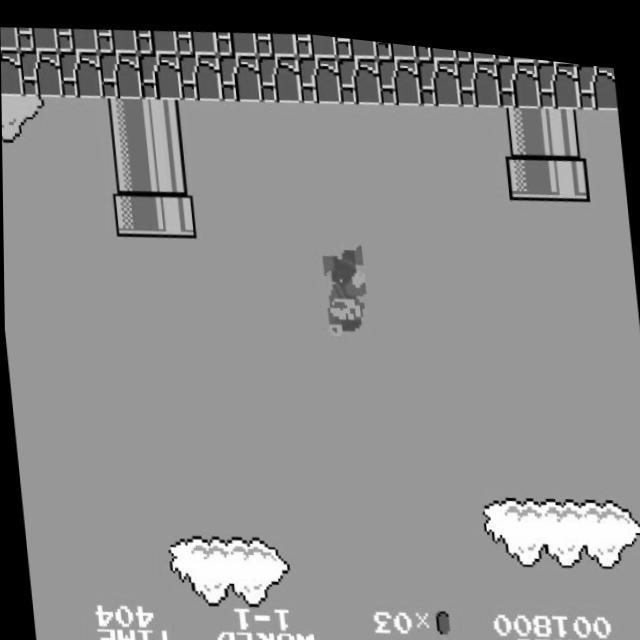0- big_mario: (320, 233, 373, 334)
14- pipe: (146, 138, 192, 191), (141, 92, 187, 145), (106, 138, 152, 191), (102, 92, 148, 145), (540, 92, 585, 145), (500, 92, 545, 145)
15- pipe_head: (544, 138, 590, 191), (504, 138, 550, 191), (150, 184, 196, 236), (111, 184, 156, 236)
17- undestructible_block: (495, 46, 541, 99), (336, 46, 382, 99), (296, 46, 342, 99), (256, 46, 302, 99), (97, 46, 143, 99), (57, 46, 103, 99), (535, 47, 581, 99), (456, 46, 501, 99), (416, 46, 461, 99), (376, 46, 421, 99), (217, 46, 262, 99), (177, 46, 222, 99), (137, 46, 182, 99), (18, 46, 63, 99), (576, 50, 618, 99), (55, 23, 99, 53), (15, 23, 59, 53), (254, 23, 297, 53), (215, 23, 258, 53), (175, 23, 218, 53), (135, 23, 178, 53), (95, 23, 138, 53), (1, 48, 23, 99), (294, 26, 337, 52), (334, 29, 377, 53), (373, 33, 416, 52), (413, 36, 456, 53), (453, 40, 496, 53), (0, 25, 19, 53), (493, 43, 536, 53)
